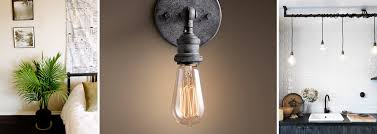bulb: (165, 50, 217, 129), (285, 49, 301, 74), (315, 37, 328, 63), (335, 49, 350, 67), (366, 40, 377, 59)
